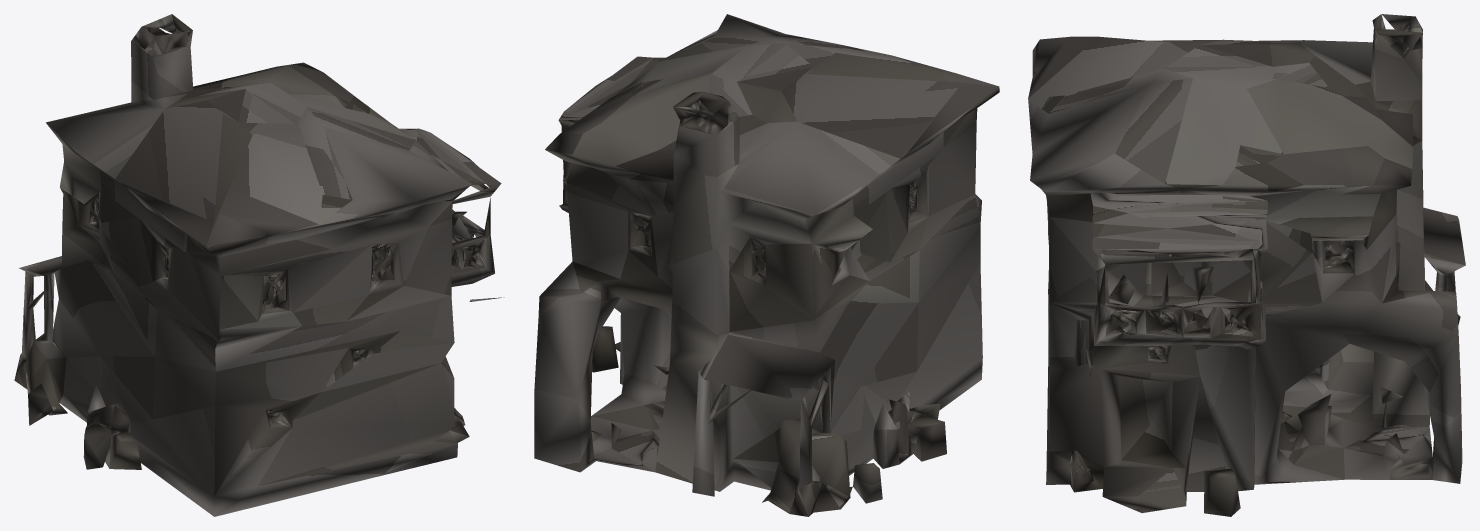
File: house_craftsman_1_lo.glb
The picture shows the model from 3 angles, left to right: view 1: azimuth 30°, elevation 25°; view 2: azimuth 150°, elevation 25°; view 3: azimuth 270°, elevation 25°; orthographic projection. The views are drawn at different scales.
Visible parts, largest first — view 1: house_craftsman_1; view 2: house_craftsman_1; view 3: house_craftsman_1.
Part boxes in pixels (x1=…): house_craftsman_1: x1=14, y1=14, x2=504, y2=516; house_craftsman_1: x1=534, y1=14, x2=999, y2=516; house_craftsman_1: x1=1028, y1=14, x2=1465, y2=516.
Size of the model in its own units: 0.9659 by 0.9 by 0.9131.
Materials: 1 (1 with a texture image).
